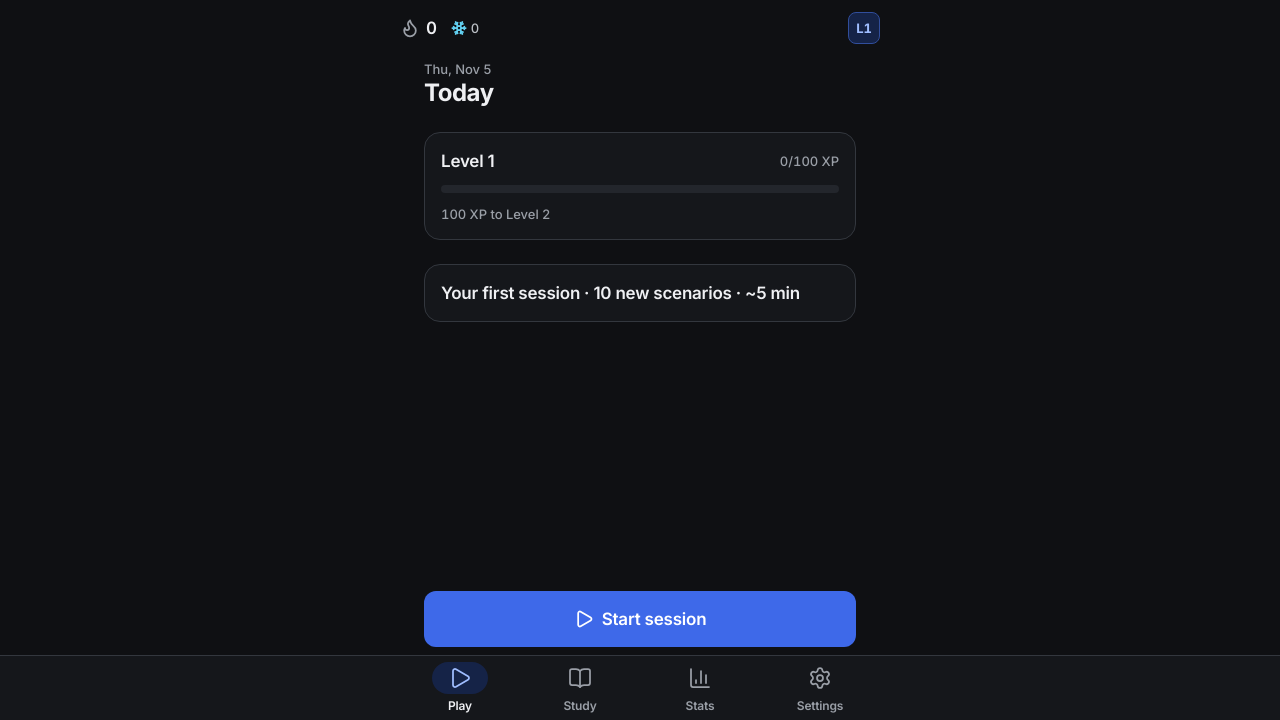
Test: AppShell navigation › tapping Stats navigates, titles the TopBar and moves aria-current
Click the link "Stats".
click(700, 690)  # box [686,666,714,713]
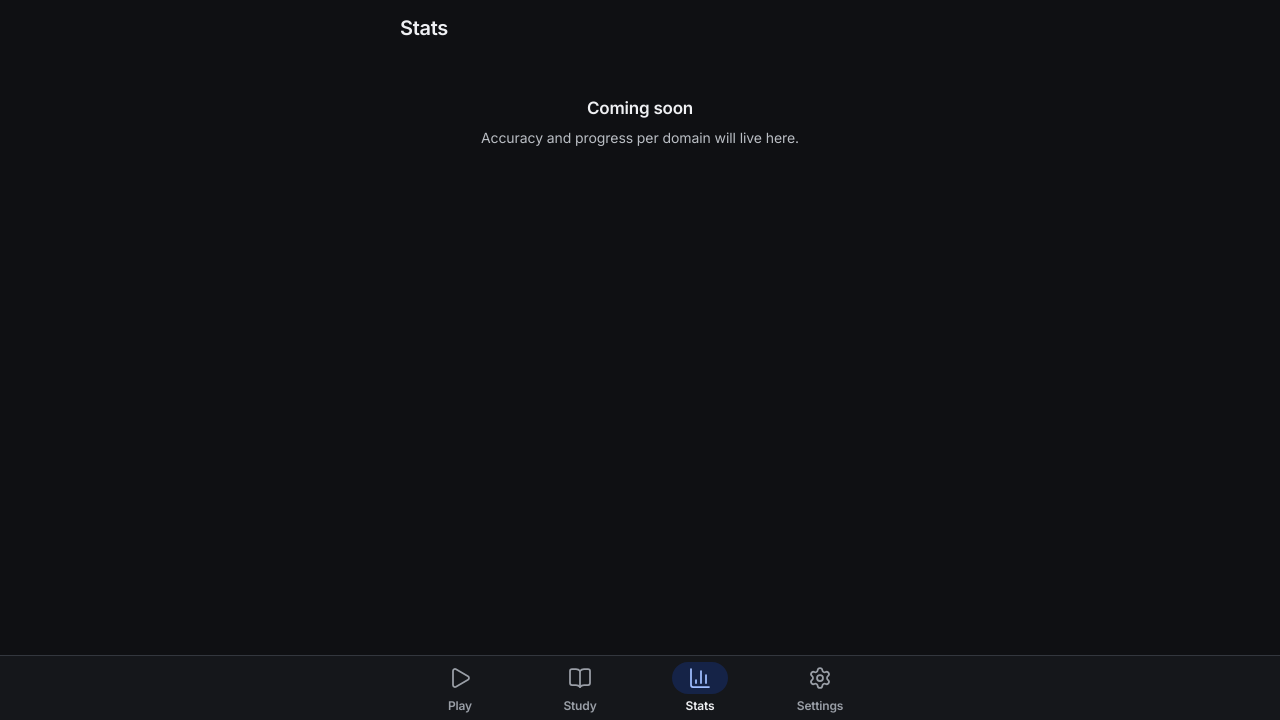
Expected: the heading "Stats" is shown, [400,14,448,40]
Expected: the heading "Coming soon" is shown, [587,96,693,120]
